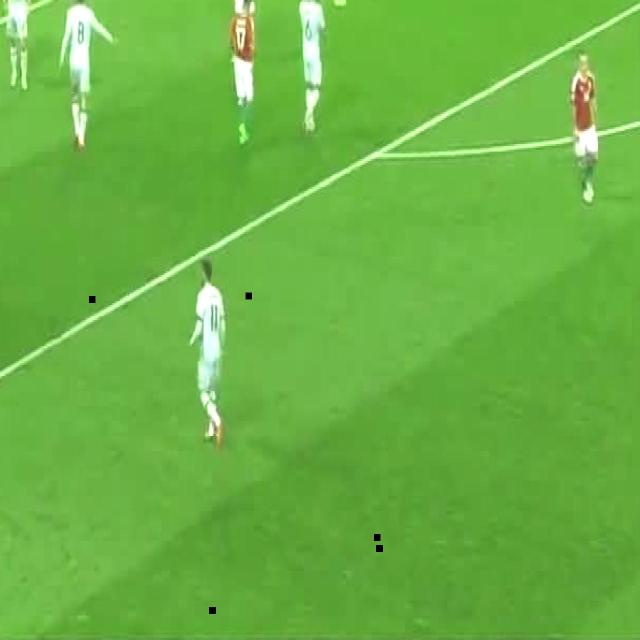player-white: (58, 0, 114, 150), (192, 258, 226, 444), (571, 52, 599, 204), (297, 0, 324, 133), (230, 0, 254, 146), (2, 0, 32, 92), (230, 1, 254, 40)
